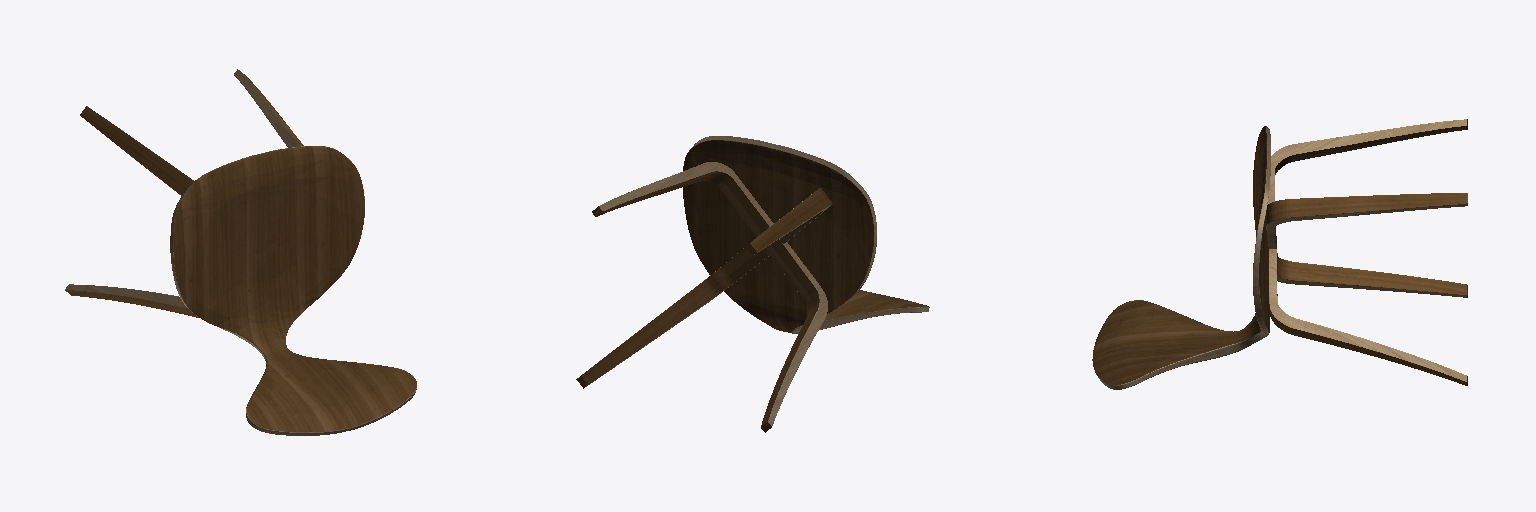
3 renders of one model, left to right at view 1: azimuth 30°, elevation 25°; view 2: azimuth 150°, elevation 25°; view 3: azimuth 270°, elevation 25°, orthographic.
Size of the model in its own units: 0.4803 by 0.5041 by 0.7973.
1 materials, 1 textured.